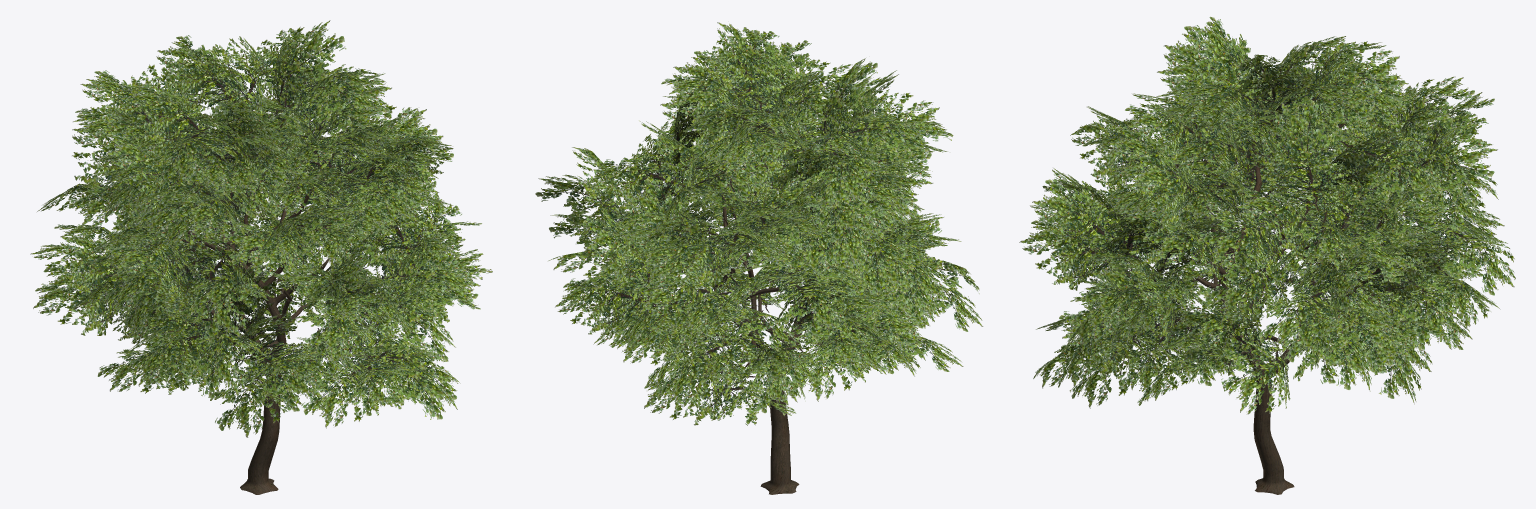
The model's file is ArvoreVerde.fbx.
The picture shows the model from 3 angles, left to right: view 1: azimuth 30°, elevation 25°; view 2: azimuth 150°, elevation 25°; view 3: azimuth 270°, elevation 25°; orthographic projection. The views are drawn at different scales.
Parts seen in each view (by area): view 1: ArvoreFolhaVerde; view 2: ArvoreFolhaVerde; view 3: ArvoreFolhaVerde.
Part boxes in pixels (bbox=[...]): ArvoreFolhaVerde: bbox=[30, 20, 492, 494]; ArvoreFolhaVerde: bbox=[535, 22, 983, 494]; ArvoreFolhaVerde: bbox=[1019, 16, 1515, 494].
Bounding box in the file's own units: 13.68 × 14.82 × 14.6.
2 materials, 2 textured.
